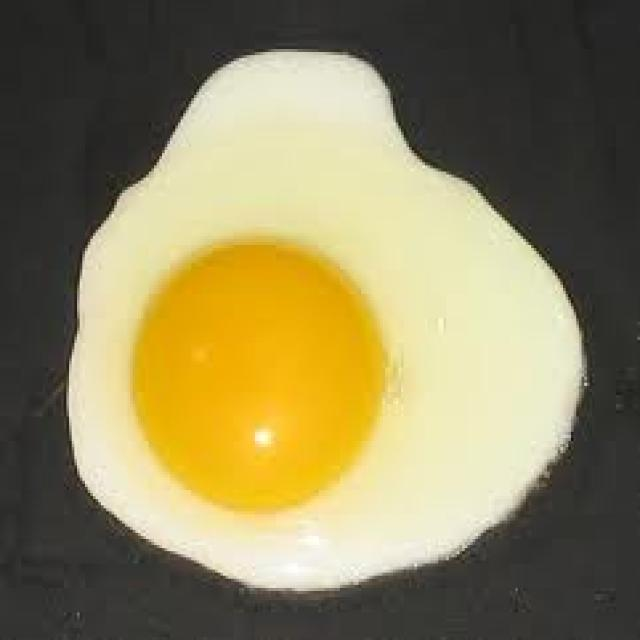egg: (50, 31, 598, 594)
